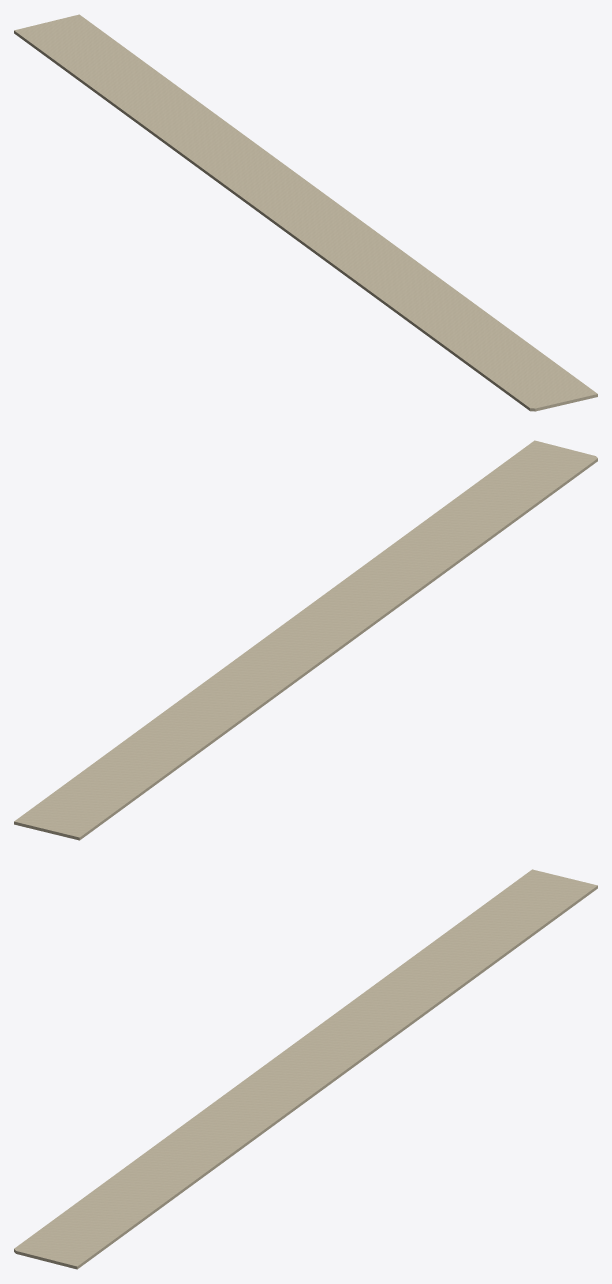
Rendered from SERVICE_D09_SA_inner_01__floor.glb.
3 renders of one model, top to bottom at view 1: azimuth 30°, elevation 25°; view 2: azimuth 150°, elevation 25°; view 3: azimuth 330°, elevation 25°, orthographic.
Visible parts, largest first — view 1: SERVICE_D09_SA_inner_01__floor__warm_stone; view 2: SERVICE_D09_SA_inner_01__floor__warm_stone; view 3: SERVICE_D09_SA_inner_01__floor__warm_stone.
Part boxes in pixels (left/top/right/bottom): SERVICE_D09_SA_inner_01__floor__warm_stone: left=14, top=14, right=597, bottom=411; SERVICE_D09_SA_inner_01__floor__warm_stone: left=14, top=440, right=597, bottom=840; SERVICE_D09_SA_inner_01__floor__warm_stone: left=14, top=869, right=597, bottom=1269.
Size of the model in its own units: 5.5 by 0.24 by 75.42.
1 material, 1 textured.
